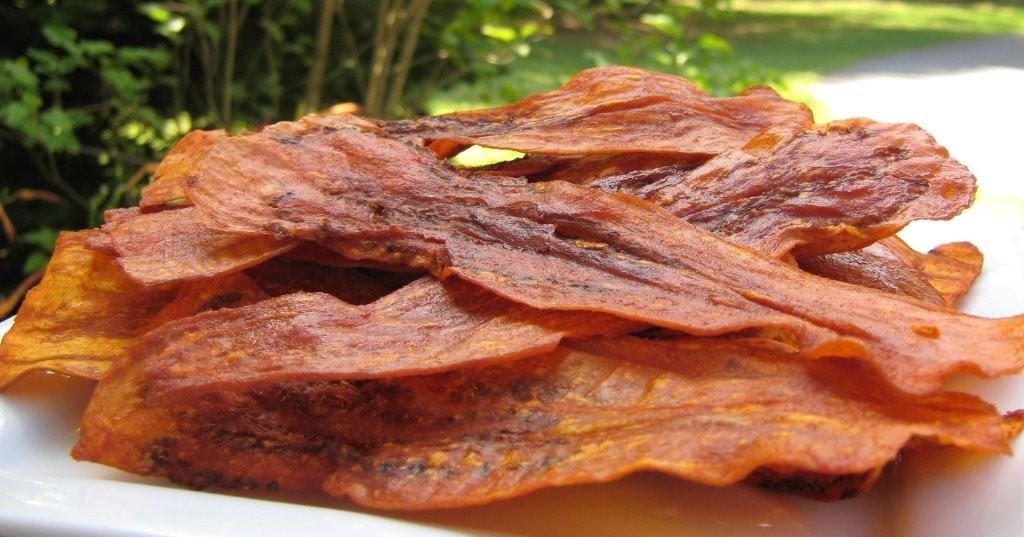bacon: (52, 113, 930, 493)
